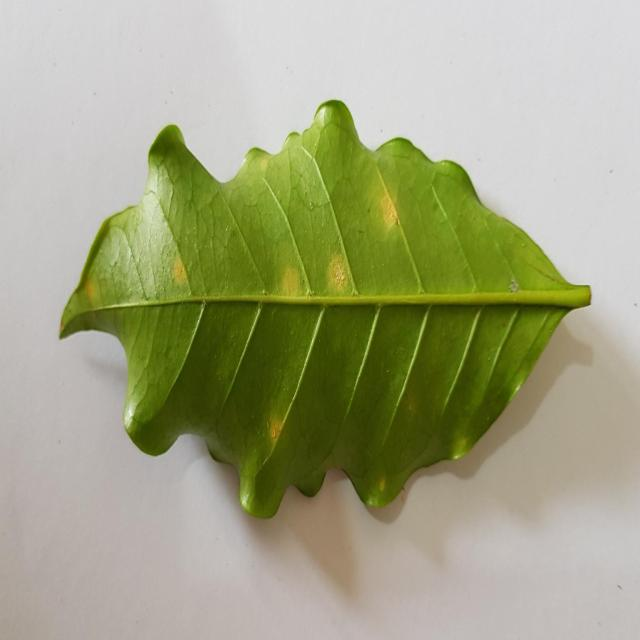rust: (324, 236, 357, 297), (379, 186, 409, 252), (168, 254, 202, 301), (278, 266, 308, 301), (364, 474, 386, 506), (270, 411, 289, 442), (85, 273, 93, 309)
